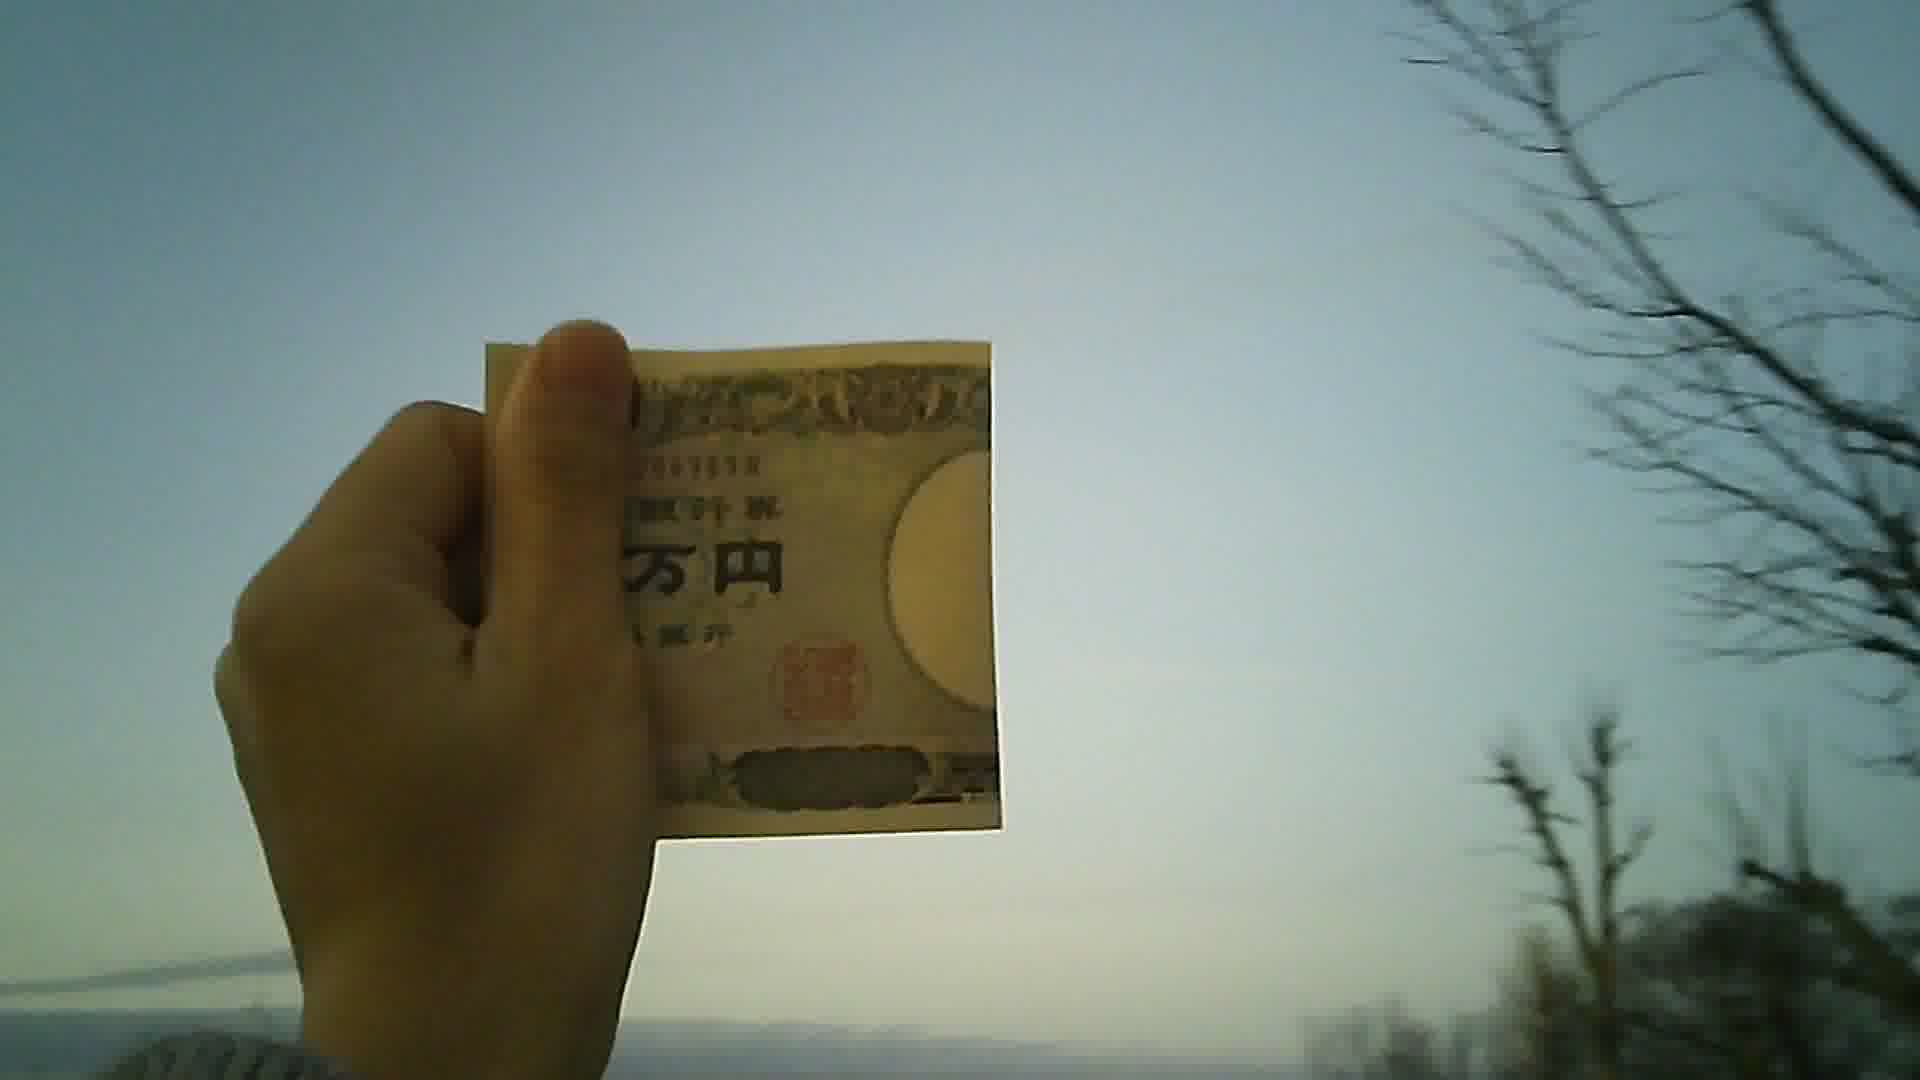10,000 Yen: (468, 318, 1060, 882)
